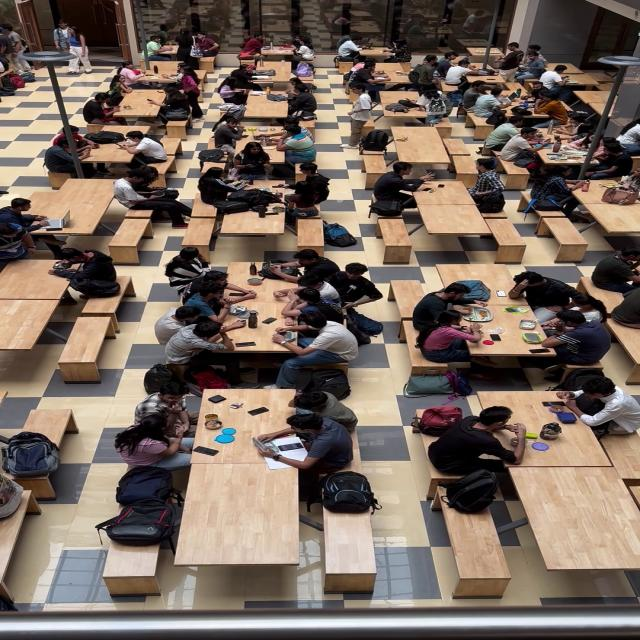Occupied: (472, 392, 616, 462), (196, 288, 324, 355), (199, 389, 295, 463), (426, 408, 524, 477), (258, 412, 356, 474), (266, 317, 358, 378), (21, 177, 121, 228), (555, 380, 639, 437), (116, 416, 195, 470), (113, 170, 192, 224), (539, 311, 613, 366), (69, 139, 173, 178), (506, 270, 581, 324), (412, 284, 491, 335), (415, 311, 486, 365), (274, 390, 358, 434), (54, 246, 125, 297), (283, 414, 353, 464), (134, 383, 200, 435), (530, 164, 591, 218), (164, 319, 240, 362), (198, 168, 268, 214), (118, 417, 190, 461), (370, 161, 432, 212), (434, 264, 516, 301), (182, 281, 247, 325), (4, 257, 68, 299), (260, 120, 316, 168), (326, 266, 382, 310), (44, 137, 101, 179), (268, 248, 343, 279), (274, 161, 328, 204), (129, 384, 197, 418), (279, 276, 342, 312), (147, 86, 194, 132), (0, 202, 52, 241), (467, 159, 506, 211), (591, 252, 640, 293), (500, 127, 549, 168), (469, 92, 540, 120), (530, 145, 600, 173), (115, 90, 170, 125), (586, 140, 634, 180), (163, 253, 216, 289), (289, 388, 353, 417), (171, 66, 204, 122), (104, 132, 180, 156), (0, 234, 45, 274), (555, 295, 605, 327), (150, 44, 216, 68), (212, 119, 248, 163), (526, 91, 570, 127), (1, 24, 31, 76), (233, 143, 273, 181), (351, 61, 388, 102), (413, 88, 451, 126), (244, 92, 291, 122), (533, 64, 569, 103), (281, 85, 317, 122), (147, 61, 210, 82), (379, 100, 429, 126), (82, 95, 125, 125), (494, 42, 524, 83), (571, 91, 618, 117), (130, 171, 172, 200), (218, 75, 254, 108), (112, 60, 150, 90), (229, 63, 276, 87), (612, 118, 640, 155), (444, 60, 477, 91), (564, 132, 604, 156), (338, 35, 368, 64), (174, 29, 196, 67), (255, 46, 299, 65), (562, 72, 614, 88), (193, 32, 220, 61), (382, 38, 412, 64), (289, 38, 315, 68), (392, 127, 443, 142), (146, 35, 173, 62), (241, 34, 266, 56), (472, 73, 514, 84), (548, 63, 588, 74), (465, 47, 499, 56)
Unoccupied: (508, 468, 640, 578), (188, 462, 298, 564), (446, 307, 563, 358), (449, 513, 511, 578), (325, 513, 374, 575), (0, 299, 54, 349), (594, 428, 639, 482), (537, 217, 591, 256), (105, 542, 160, 580), (420, 204, 488, 234), (219, 208, 286, 236), (20, 410, 75, 444), (580, 278, 629, 316), (68, 315, 105, 364), (390, 280, 428, 320), (591, 203, 640, 233), (390, 140, 452, 162), (109, 218, 154, 248), (522, 203, 567, 231), (488, 218, 528, 248), (445, 138, 477, 174), (294, 218, 325, 254), (181, 218, 218, 248), (376, 219, 408, 248), (360, 153, 389, 185), (188, 192, 219, 219), (376, 90, 418, 108), (164, 117, 190, 139), (199, 159, 230, 177), (373, 62, 411, 75)
